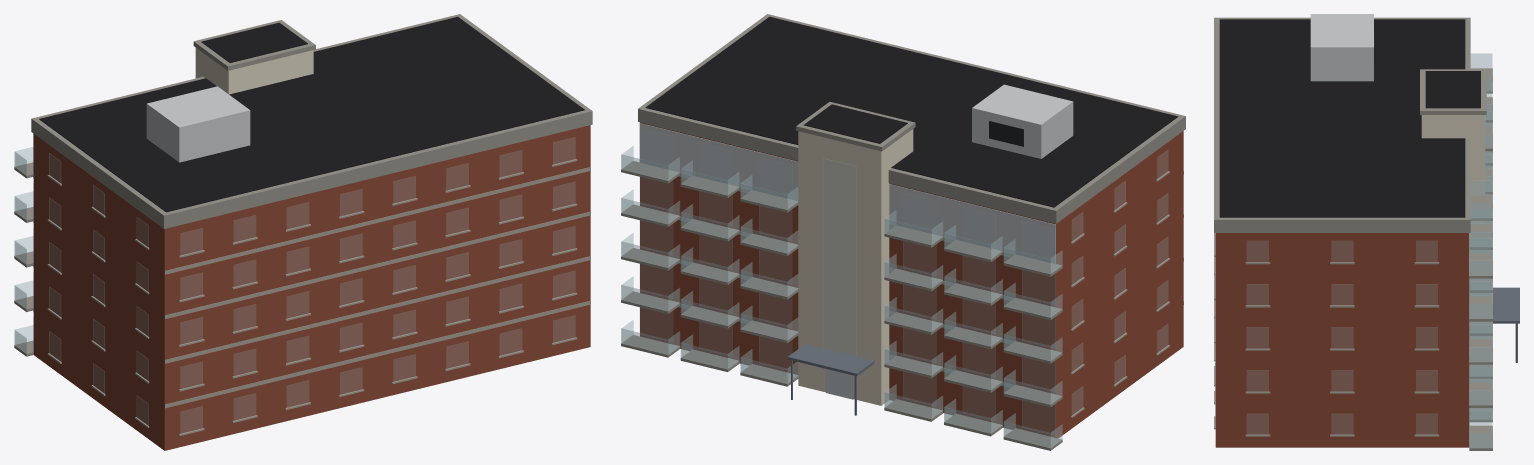
File: context.type.apartment_building.glb
3 renders of one model, left to right at view 1: azimuth 30°, elevation 25°; view 2: azimuth 150°, elevation 25°; view 3: azimuth 270°, elevation 25°, orthographic. The views are drawn at different scales.
Visible parts, largest first — view 1: walls__brick, roof__roof_felt, openings__glass, roof__concrete, openings__paving, roof__aluminium, walls__render, walls__concrete; view 2: walls__brick, openings__glass, roof__roof_felt, walls__concrete, walls__render, openings__aluminium, roof__concrete, roof__aluminium, roof__steel_painted, openings__paving, roof__steel_dark; view 3: walls__brick, roof__roof_felt, openings__glass, roof__concrete, walls__concrete, roof__aluminium, walls__render, openings__paving, roof__steel_painted.
Part boxes in pixels (x1,y1,x2,y2): walls__brick: (33,125,590,450); roof__roof_felt: (39,16,584,212); openings__glass: (14,137,575,433); roof__concrete: (31,14,592,228); openings__paving: (33,159,590,435); roof__aluminium: (146,86,250,162); walls__render: (195,47,313,94); walls__concrete: (14,162,33,356); walls__brick: (640,122,1183,438); openings__glass: (621,129,1167,447); roof__roof_felt: (645,16,1178,207); walls__concrete: (621,161,1062,450); walls__render: (798,129,913,405); openings__aluminium: (639,123,1055,399); roof__concrete: (638,14,1185,223); roof__aluminium: (972,84,1073,158); roof__steel_painted: (787,344,874,376); openings__paving: (678,171,1183,417); roof__steel_dark: (989,121,1023,146); walls__brick: (1215,233,1469,447); roof__roof_felt: (1219,19,1480,217); openings__glass: (1215,53,1492,448); roof__concrete: (1214,17,1486,232); walls__concrete: (1469,68,1492,450); roof__aluminium: (1310,14,1373,81); walls__render: (1421,115,1484,223); openings__paving: (1214,233,1469,436); roof__steel_painted: (1493,287,1519,323).
Bounding box in the file's own units: 31.01 × 18.34 × 19.3.
